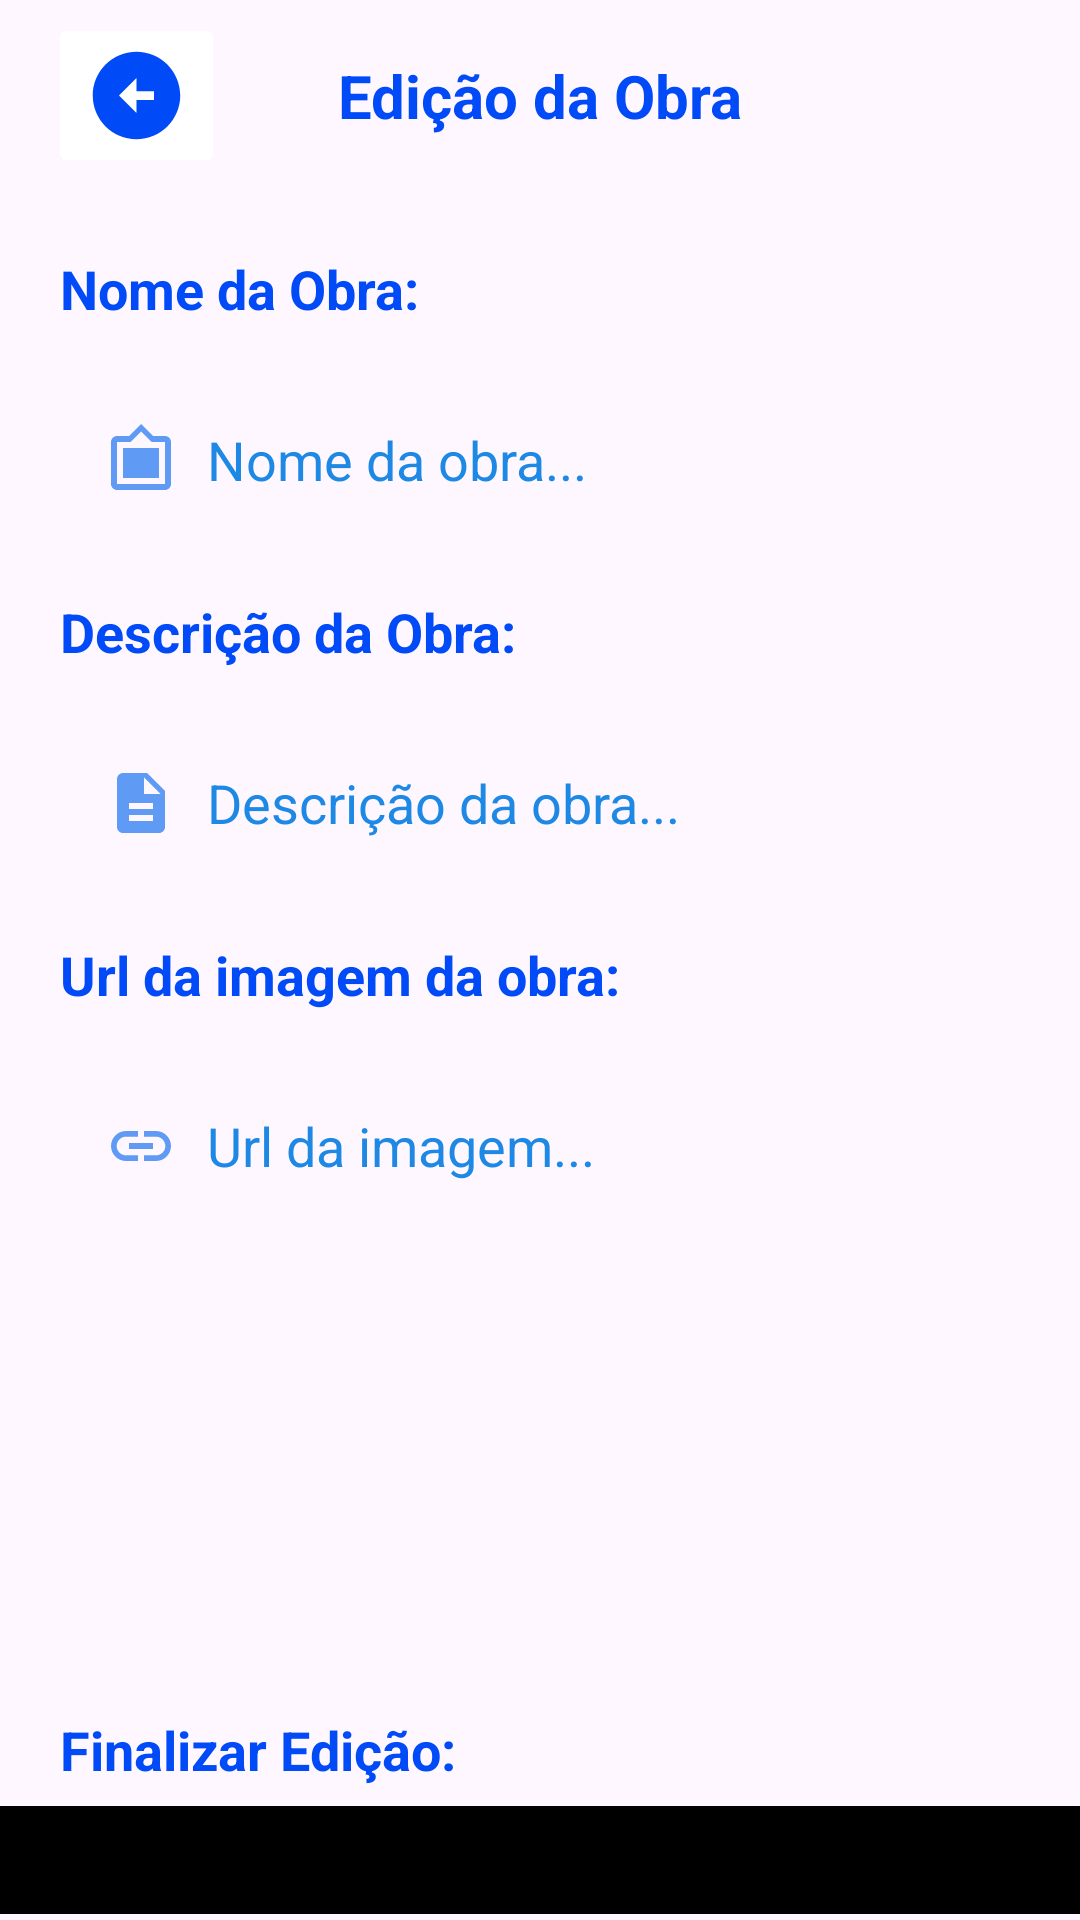

Where to tap for icons on this 1080x1920 app screen, as [x,y]:
arrow circle left: [136,95]
